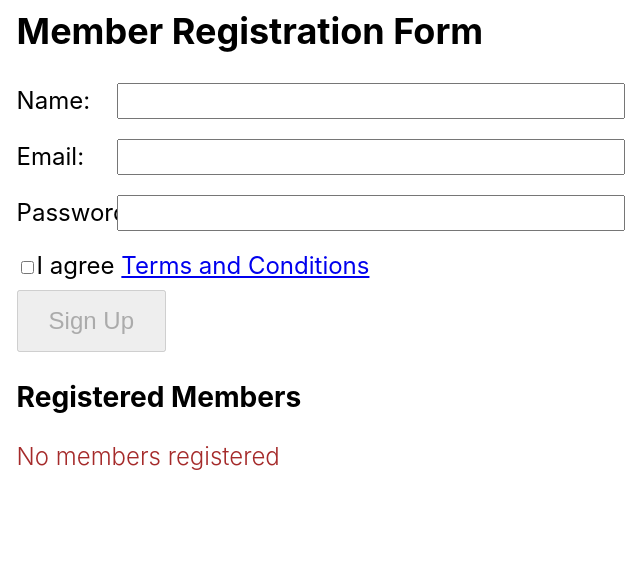
Test: Member Registration Form Test › shows an error message and disables the button when invalid name entered
Type "Do" into the field named "name" at x=371, y=101, box top-left (117, 83), bottom-right (625, 119)
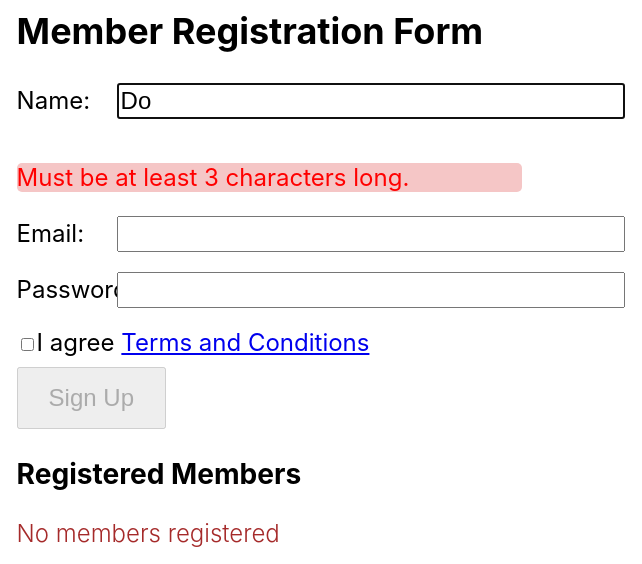
Expected: the submit button is disabled, top-left (17, 367), bottom-right (166, 429)
Result: the text with test id "error" reads "Must be at least 3 characters long." at top-left (17, 163), bottom-right (522, 192)
Clear the field named "name" at x=371, y=101, box top-left (117, 83), bottom-right (625, 119)
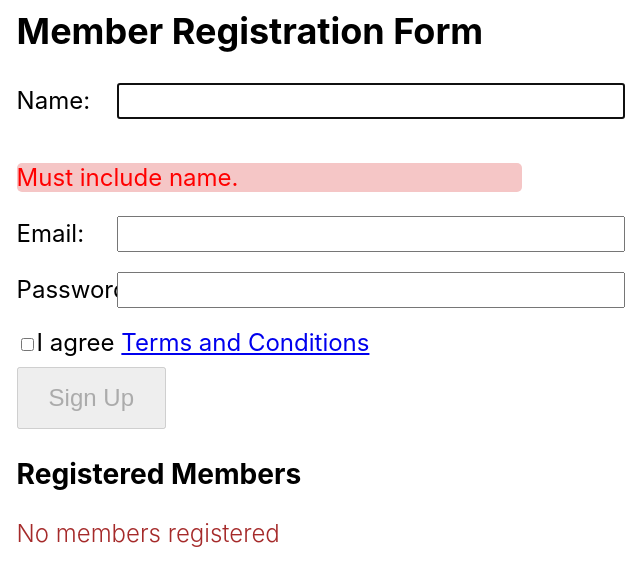
Expected: the submit button is disabled, top-left (17, 367), bottom-right (166, 429)
Result: the text with test id "error" reads "Must include name." at top-left (17, 163), bottom-right (522, 192)
